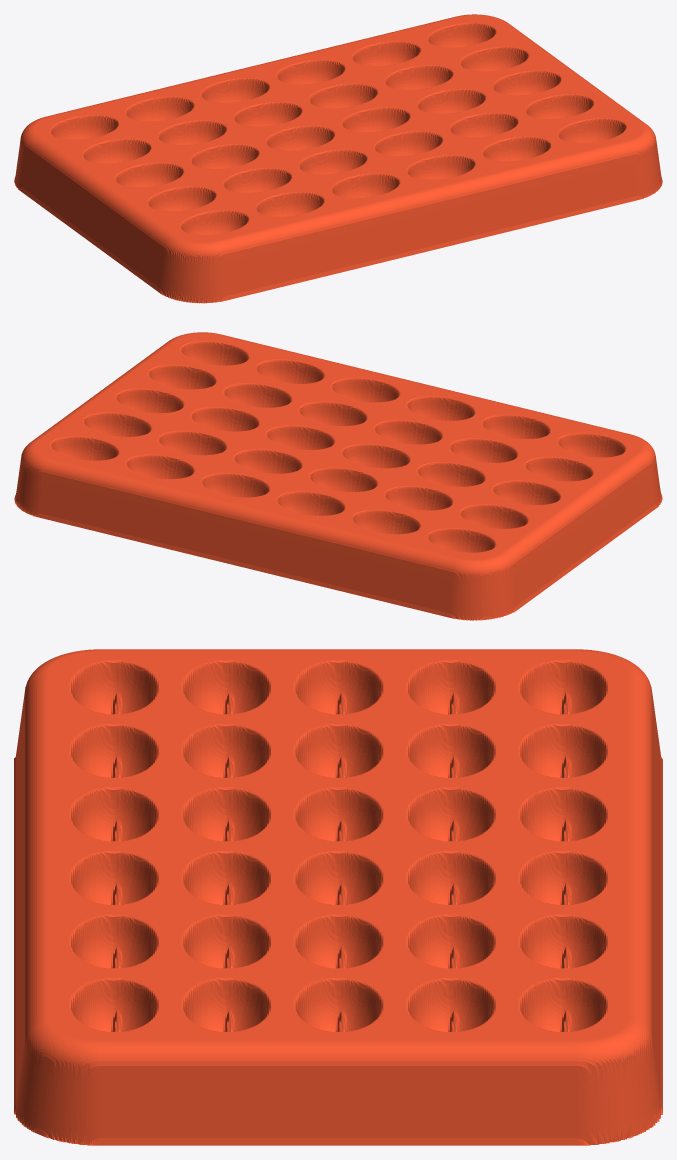
File: mold.glb
The picture shows the model from 3 angles, top to bottom: view 1: azimuth 30°, elevation 25°; view 2: azimuth 150°, elevation 25°; view 3: azimuth 270°, elevation 25°; orthographic projection. The views are drawn at different scales.
Visible parts, largest first — view 1: geometry_0; view 2: geometry_0; view 3: geometry_0.
Boxes of the visible parts, <box> form: geometry_0: <box>14,14,662,303</box>; geometry_0: <box>14,332,662,620</box>; geometry_0: <box>14,649,662,1145</box>.
Size of the model in its own units: 0.104 by 0.0105 by 0.0682.
